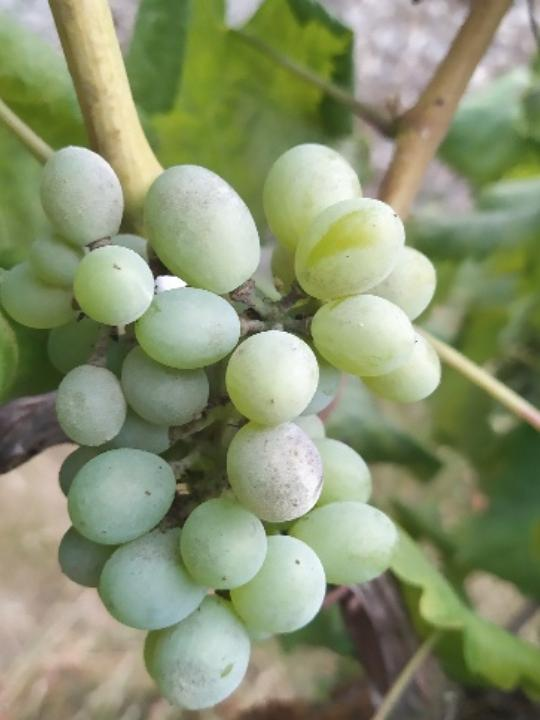grape: (0, 140, 447, 716)
